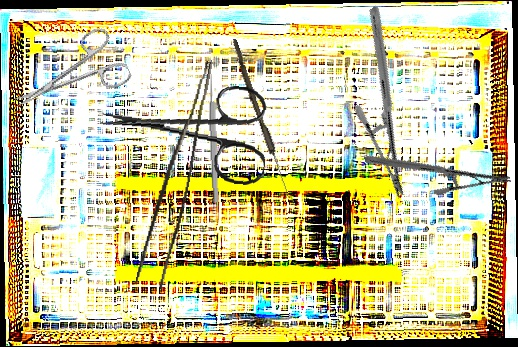Iris Scissors: (95, 72, 273, 187), (2, 23, 134, 129)
Needle Holder: (296, 4, 478, 200), (363, 111, 512, 228)
Surgical Spoon: (228, 38, 292, 194), (207, 59, 220, 203)
Tissue Forceps: (135, 55, 213, 291)
